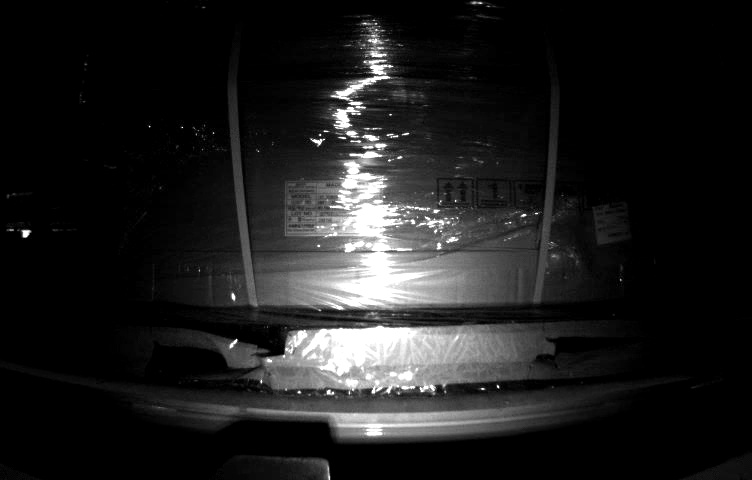True Barcode: (590, 197, 639, 241)
